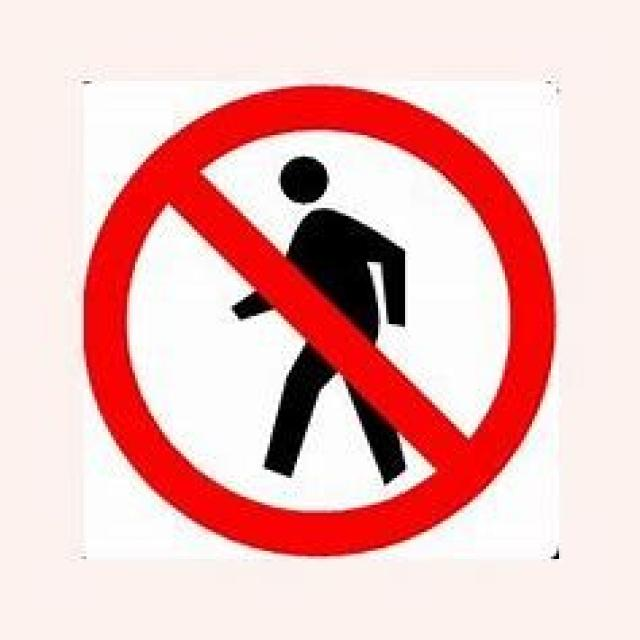PEDESTRIAN_PROHIBITED: (82, 76, 562, 566)
